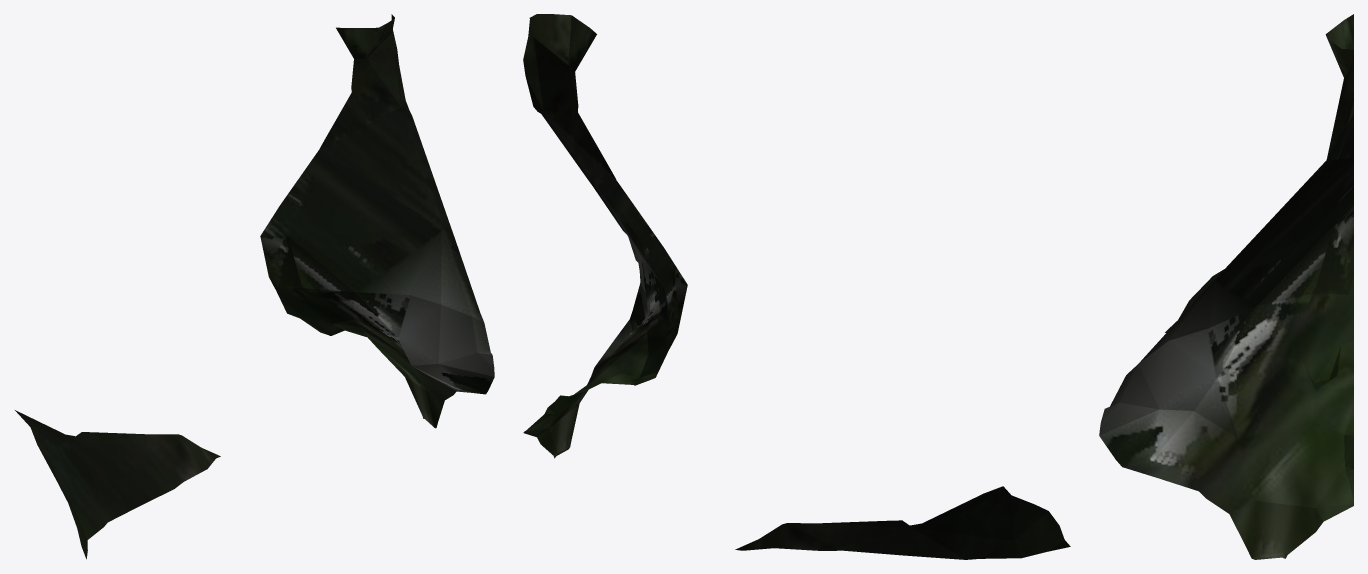
The picture shows the model from 3 angles, left to right: view 1: azimuth 30°, elevation 25°; view 2: azimuth 150°, elevation 25°; view 3: azimuth 270°, elevation 25°; orthographic projection. The views are drawn at different scales.
Size of the model in its own units: 0.8374 by 0.8373 by 0.3693.
Materials: 1 (1 with a texture image).
